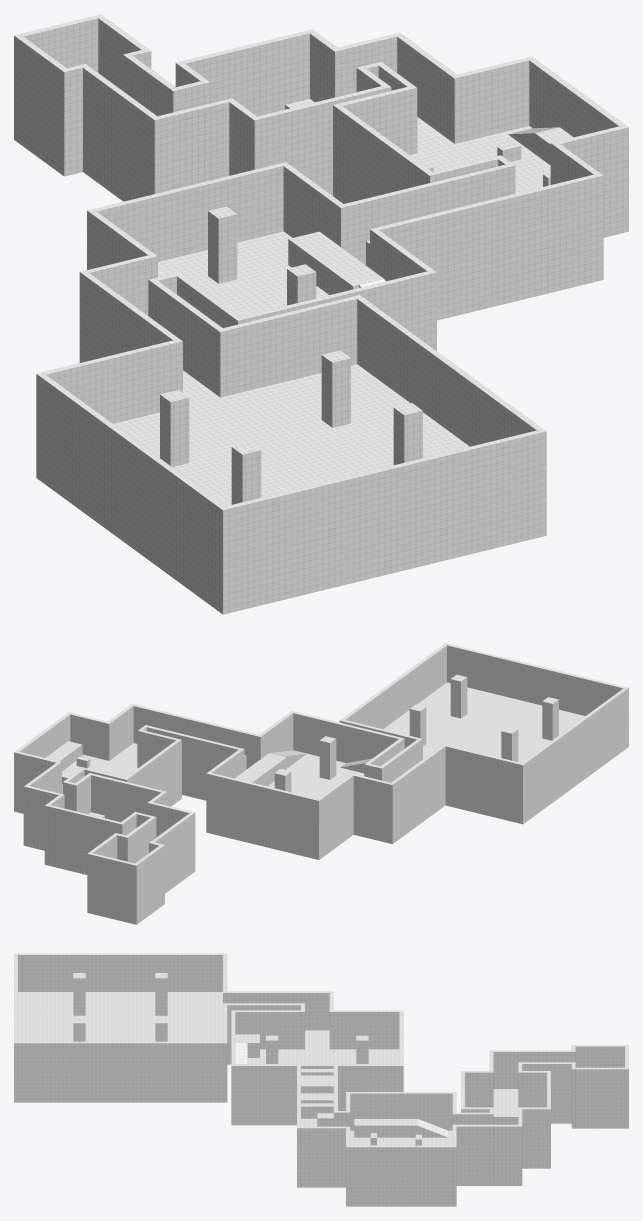
File: Stage2StaticCol.fbx
The picture shows the model from 3 angles, top to bottom: view 1: azimuth 30°, elevation 25°; view 2: azimuth 150°, elevation 25°; view 3: azimuth 270°, elevation 25°; orthographic projection. The views are drawn at different scales.
Visible parts, largest first — view 1: Boss_WallN0, Boss_Floor, Boss_WallW0, Climb_WallE0, Boss_WallE0, Battle2_WallW0, Boss_WallS1, Boss_WallS0, Pit_WallE0, Corner3_WallN0, Climb_WallW0, Battle1_WallW0 (+42 smaller); view 2: Boss_Floor, Battle2_WallW0, Boss_WallW0, Boss_WallN0, Boss_WallS0, Boss_WallE0, Pit_WallE0, Start_WallS0, Battle2_WallE0, CorrC2_WallW0, Battle2_WallN0, Climb_WallW0 (+39 smaller); view 3: Boss_WallE0, Boss_Floor, Boss_WallW0, Battle1_WallE0, Battle2_WallS1, Start_WallE0, Battle1_WallW0, Battle2_WallN0, Battle2_WallN1, CorrB2_WallE0, Corner2_WallN0, Corner3_WallE0 (+31 smaller).
Boxes of the visible parts, x1,y1,x2,y2 form: Boss_WallN0: (219, 429, 546, 614); Boss_Floor: (113, 364, 469, 506); Boss_WallW0: (40, 375, 224, 611); Climb_WallE0: (370, 187, 547, 320); Boss_WallE0: (357, 297, 542, 446); Battle2_WallW0: (94, 163, 283, 261); Boss_WallS1: (217, 295, 362, 397); Boss_WallS0: (36, 339, 182, 480); Pit_WallE0: (182, 31, 309, 116); Corner3_WallN0: (541, 173, 603, 294); Climb_WallW0: (338, 164, 515, 264); Battle1_WallW0: (336, 106, 431, 203); Boss_Floor: (383, 682, 585, 762); Battle2_WallW0: (209, 773, 316, 858); Boss_WallW0: (522, 688, 626, 822); Boss_WallN0: (444, 643, 628, 747); Boss_WallS0: (443, 744, 524, 824); Boss_WallE0: (342, 644, 446, 728); Pit_WallE0: (48, 805, 120, 874); Start_WallS0: (87, 852, 138, 924); Battle2_WallE0: (293, 712, 400, 762); CorrC2_WallW0: (404, 744, 445, 833); Battle2_WallN0: (315, 773, 355, 859); Climb_WallW0: (145, 725, 243, 800); Boss_WallE0: (18, 1041, 222, 1102); Boss_Floor: (18, 992, 222, 1041); Boss_WallW0: (18, 953, 222, 991); Battle1_WallE0: (350, 1145, 452, 1206); Battle2_WallS1: (231, 1064, 300, 1125); Start_WallE0: (575, 1067, 624, 1128); Battle1_WallW0: (350, 1092, 452, 1130); Battle2_WallN0: (329, 1010, 403, 1049); Battle2_WallN1: (231, 1010, 304, 1049); CorrB2_WallE0: (456, 1124, 493, 1185); Corner2_WallN0: (489, 1124, 522, 1185); Corner3_WallE0: (301, 1126, 333, 1187).
Size of the model in its own units: 11200 by 1600 by 15000.
1 material, 1 textured.
